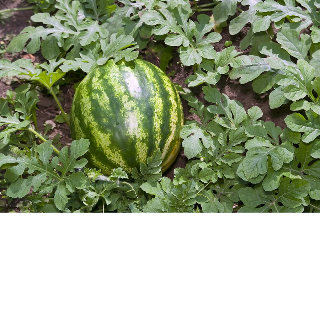dua_hau: (68, 54, 189, 184)
